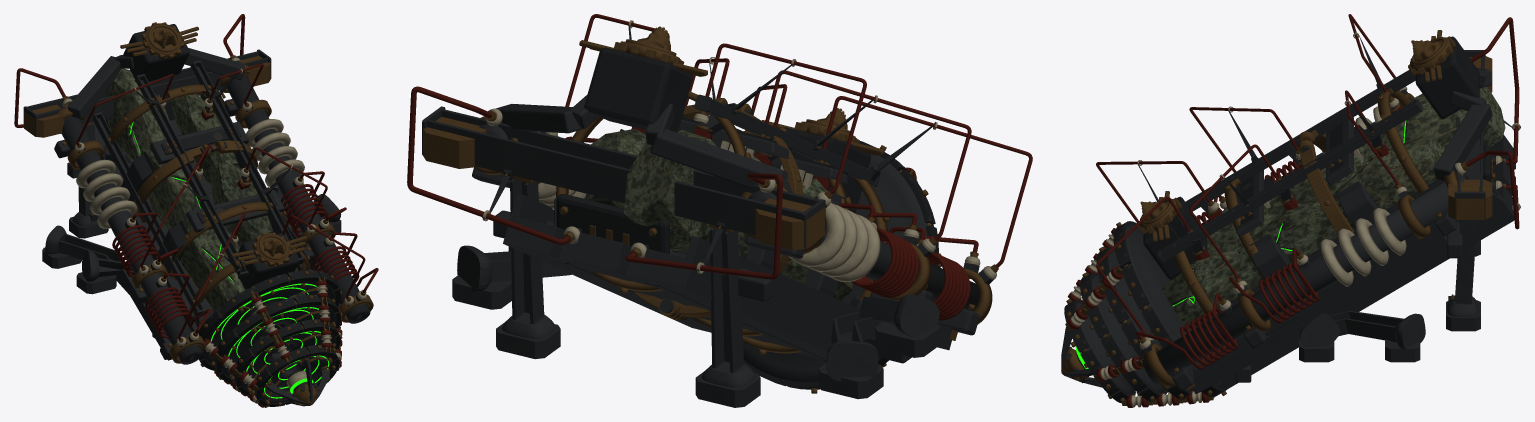
Rendered from large-void-fusion-v01.glb.
3 views of the same model, side by side, from view 1: azimuth 30°, elevation 25°; view 2: azimuth 150°, elevation 25°; view 3: azimuth 270°, elevation 25° (orthographic). The views are drawn at different scales.
Parts seen in each view (by area): view 1: Fractured Noctilith block 0, Fractured Noctilith block 1, Induction tower iron core -1, Induction tower iron core 1, Fractured Noctilith block 2, Open cage formed retaining channel.002, Broad rolled top load crossmember, Open cage formed retaining channel.001, Open cage formed retaining channel.003, Core V18 shaped inter-stone machine crosshead 1, Armored shallow dish stage 0, Core V18 shaped inter-stone machine crosshead 0 (+54 smaller); view 2: Core V18 retained deep backing pan, Broad rolled top load crossmember, Seal supported armor plinth 0, Fractured Noctilith block 0, Armored shallow dish stage 0, Low surrounding-platform diagonal 4, Upper arch shoulder -1, Sealed electric service hatch, FMPL | PIPETTE | wide-winding--1-0 | continuous visible rout, Low surrounding-platform diagonal 5, Open cage formed retaining channel.002, Shaped upper portal bearing casting -1 (+40 smaller); view 3: Core V18 retained deep backing pan, Induction tower iron core 1, Fractured Noctilith block 0, Fractured Noctilith block 2, Fractured Noctilith block 1, Open cage formed retaining channel.001, Low surrounding-platform diagonal 2, Open cage formed retaining channel.002, Armored shallow dish stage 0, Seal supported armor plinth 0, FMPL | PIPETTE | wide-winding-1-1 | continuous visible route, Core V18 shaped inter-stone machine crosshead 0 (+42 smaller).
Boxes of the visible parts, bbox=[...] form: Fractured Noctilith block 0: bbox=[105, 68, 237, 182]; Fractured Noctilith block 1: bbox=[140, 149, 273, 246]; Induction tower iron core -1: bbox=[61, 116, 202, 364]; Induction tower iron core 1: bbox=[226, 74, 370, 323]; Fractured Noctilith block 2: bbox=[180, 219, 305, 336]; Open cage formed retaining channel.002: bbox=[136, 76, 246, 275]; Broad rolled top load crossmember: bbox=[27, 51, 267, 124]; Open cage formed retaining channel.001: bbox=[192, 62, 302, 258]; Open cage formed retaining channel.003: bbox=[93, 114, 203, 313]; Core V18 shaped inter-stone machine crosshead 1: bbox=[156, 190, 287, 279]; Armored shallow dish stage 0: bbox=[203, 274, 335, 364]; Core V18 shaped inter-stone machine crosshead 0: bbox=[121, 121, 249, 207]; Core V18 retained deep backing pan: bbox=[503, 193, 859, 358]; Broad rolled top load crossmember: bbox=[427, 109, 820, 235]; Seal supported armor plinth 0: bbox=[584, 47, 692, 132]; Fractured Noctilith block 0: bbox=[587, 129, 716, 251]; Armored shallow dish stage 0: bbox=[743, 154, 927, 381]; Low surrounding-platform diagonal 4: bbox=[710, 228, 743, 372]; Upper arch shoulder -1: bbox=[650, 129, 783, 188]; Sealed electric service hatch: bbox=[556, 194, 669, 254]; FMPL | PIPETTE | wide-winding--1-0 | continuous visible rout: bbox=[838, 203, 918, 297]; Low surrounding-platform diagonal 5: bbox=[510, 179, 544, 324]; Open cage formed retaining channel.002: bbox=[703, 99, 875, 184]; Shaped upper portal bearing casting -1: bbox=[755, 198, 824, 250]; Core V18 retained deep backing pan: bbox=[1209, 134, 1515, 389]; Induction tower iron core 1: bbox=[1142, 174, 1468, 384]; Fractured Noctilith block 0: bbox=[1332, 86, 1505, 228]; Fractured Noctilith block 2: bbox=[1161, 198, 1277, 331]; Fractured Noctilith block 1: bbox=[1237, 147, 1368, 280]; Open cage formed retaining channel.001: bbox=[1160, 101, 1419, 261]; Low surrounding-platform diagonal 2: bbox=[1192, 311, 1314, 394]; Open cage formed retaining channel.002: bbox=[1185, 70, 1415, 211]; Armored shallow dish stage 0: bbox=[1124, 224, 1224, 387]; Seal supported armor plinth 0: bbox=[1415, 36, 1479, 118]; FMPL | PIPETTE | wide-winding-1-1 | continuous visible route: bbox=[1136, 293, 1238, 369]; Core V18 shaped inter-stone machine crosshead 0: bbox=[1326, 117, 1390, 250].
Bounding box in the file's own units: 3.79 × 4.03 × 4.7.
Materials: 10 (10 with a texture image).
